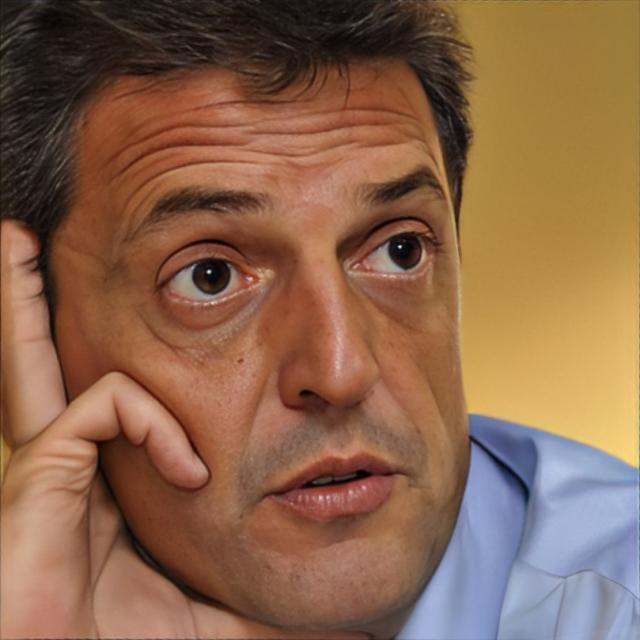surprise: (45, 53, 473, 632)
